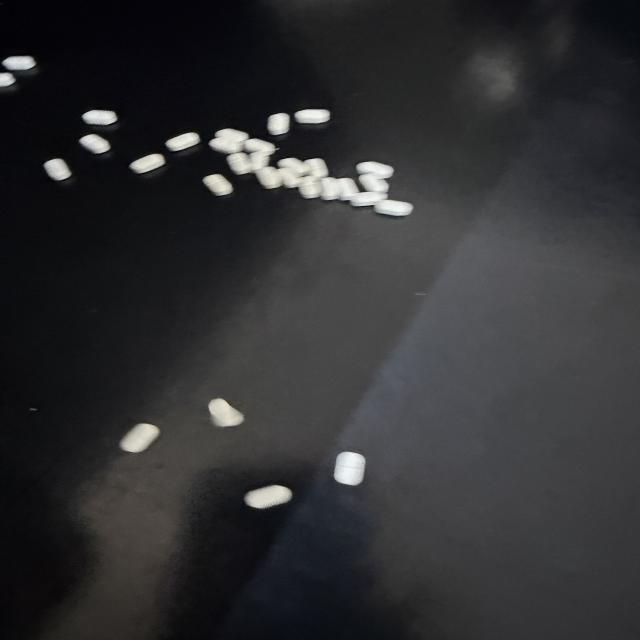pill: (120, 424, 159, 452), (245, 485, 292, 508), (334, 452, 365, 485), (209, 399, 244, 427), (43, 158, 72, 181), (130, 154, 165, 173), (166, 132, 200, 151), (203, 174, 233, 195), (356, 162, 393, 179), (374, 200, 413, 216), (79, 134, 110, 154), (255, 167, 282, 189), (209, 137, 243, 154), (294, 109, 331, 124), (278, 158, 309, 175), (82, 110, 117, 125), (249, 151, 274, 172), (359, 174, 388, 192), (350, 192, 387, 206), (267, 113, 290, 135), (227, 153, 251, 174), (244, 139, 276, 154), (2, 56, 36, 70), (299, 177, 321, 198), (305, 158, 328, 178), (339, 178, 359, 200), (278, 168, 300, 188), (321, 178, 341, 200), (215, 129, 249, 141), (0, 73, 15, 86)
